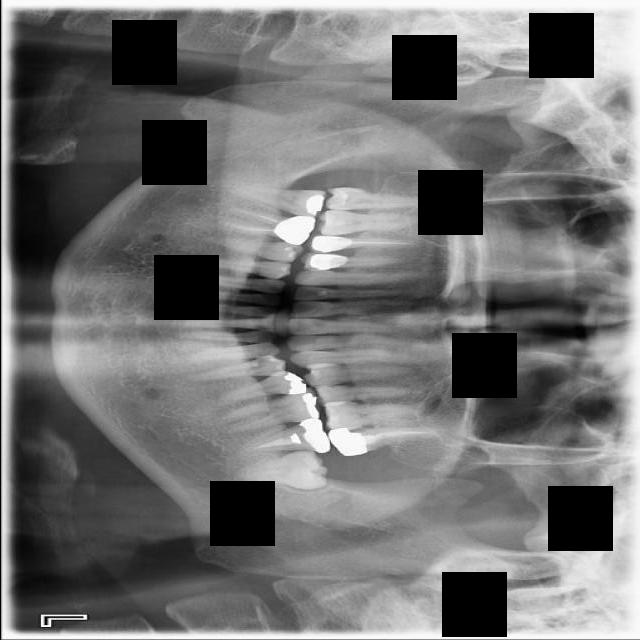52: (324, 417, 372, 467), (273, 204, 318, 253), (264, 360, 310, 405), (293, 413, 334, 460), (277, 389, 321, 427), (289, 182, 327, 223), (261, 238, 303, 265), (300, 249, 343, 274), (308, 235, 348, 253)
73: (215, 202, 285, 240), (359, 423, 446, 450), (243, 425, 309, 453), (347, 235, 413, 248), (58, 602, 68, 608)
BioHorizons Implant: (327, 424, 446, 457)
Biomet 3i Implant: (236, 441, 332, 493)
Blue Sky Bio Implant: (244, 417, 331, 453)
Caries: (323, 187, 429, 213)
Implant: (233, 185, 326, 220)
